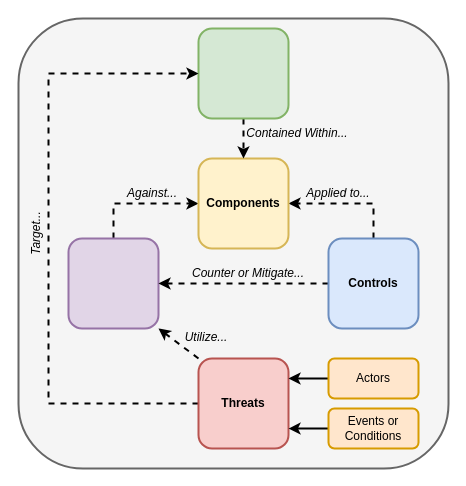
Image size: 466x486. Some labels were removed from this diagram. Each missing label, with the centre of its shape:
"Assets" belongs at point (243, 73).
"Attack Vectors / Vulnerabilities" belongs at point (113, 283).
